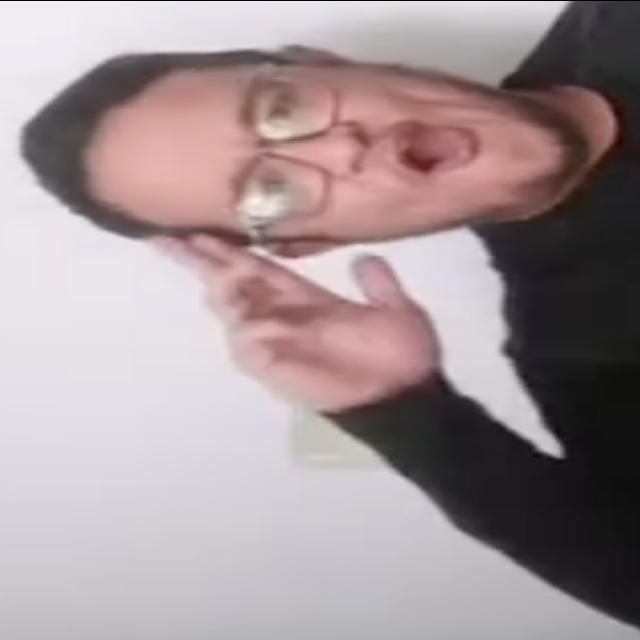hola: (137, 231, 456, 420)
